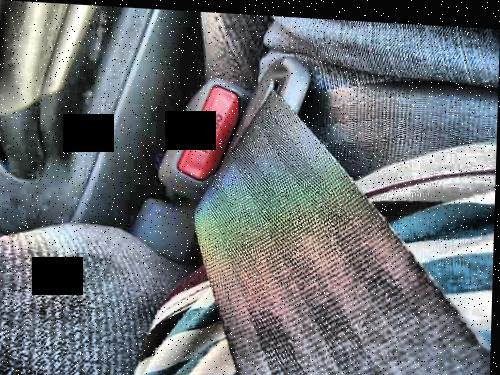seatbelt: (157, 52, 417, 350)
